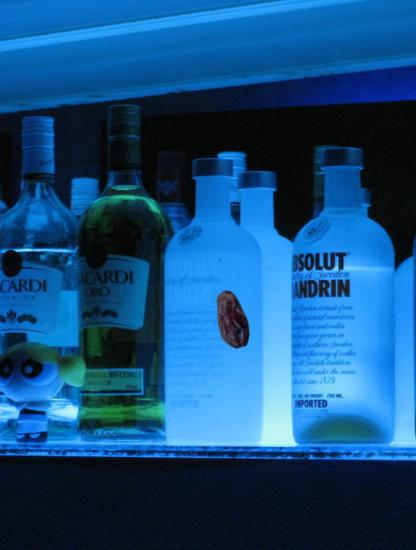Dates: (202, 290, 261, 349)
